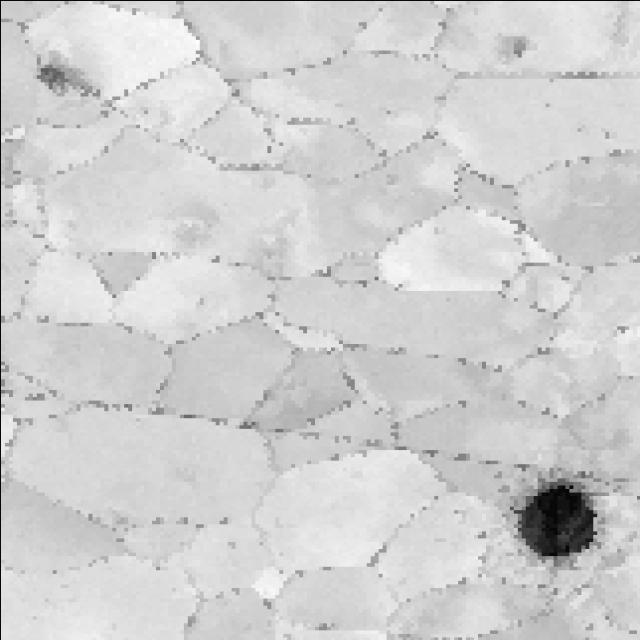good_void: (491, 472, 605, 572), (30, 43, 108, 100), (485, 14, 550, 73)
